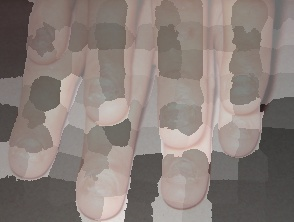Nail_psoriasis: (153, 149, 216, 213), (74, 169, 122, 219), (82, 71, 126, 116), (156, 95, 200, 140), (9, 137, 48, 179), (221, 113, 259, 152), (23, 18, 62, 56), (226, 72, 263, 102)
